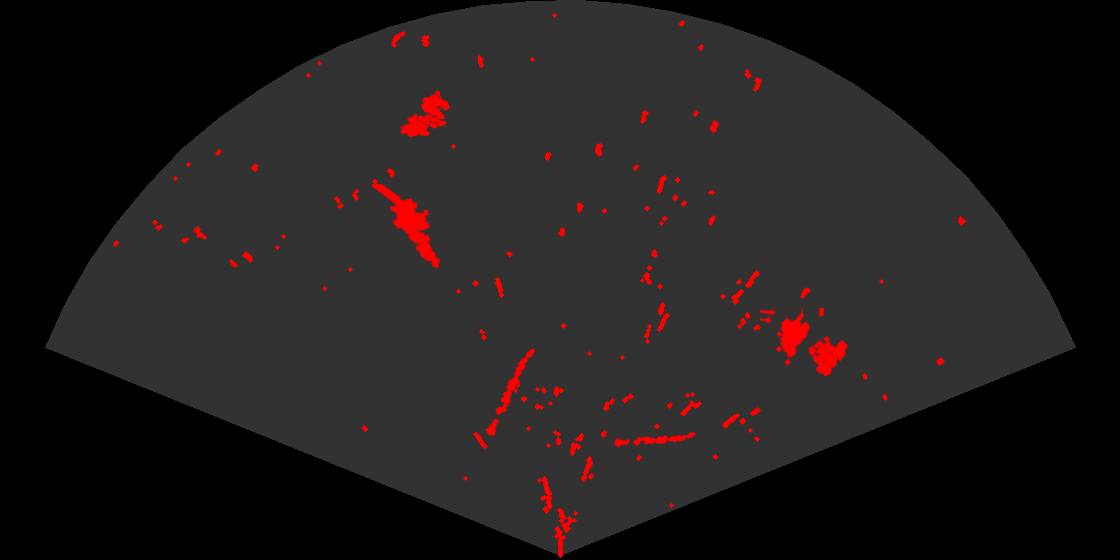AUV: (399, 112, 448, 139)
ball: (416, 93, 451, 130)
cage: (760, 308, 850, 378)
chain: (484, 347, 537, 438), (612, 430, 697, 449)
frogman: (372, 184, 442, 270)
